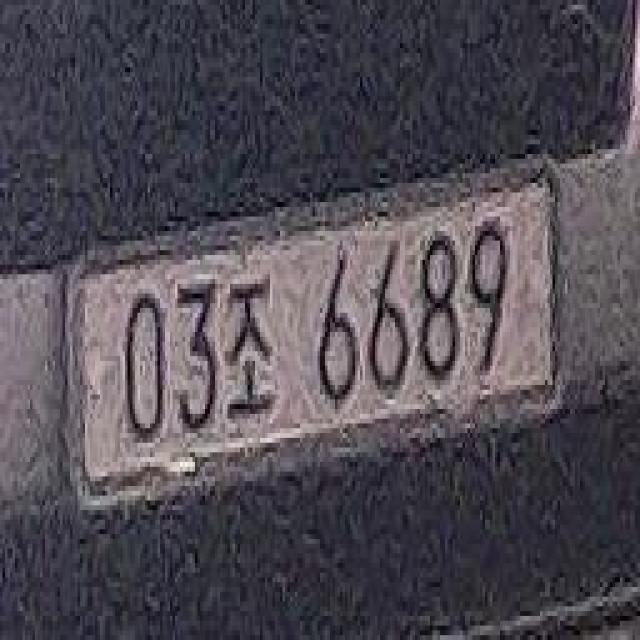illegal_plate: (75, 170, 560, 509)
